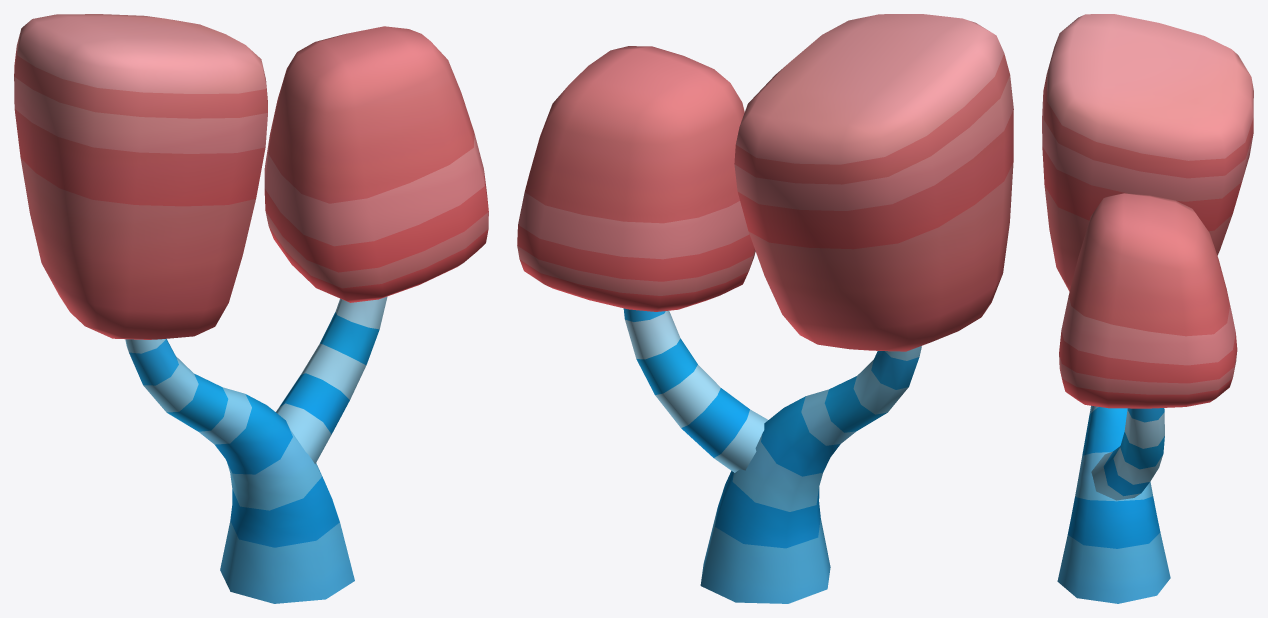
Rendered from Tree_02.glb.
3 views of the same model, side by side, from view 1: azimuth 30°, elevation 25°; view 2: azimuth 150°, elevation 25°; view 3: azimuth 270°, elevation 25° (orthographic). The views are drawn at different scales.
Visible parts, largest first — view 1: Tree_02; view 2: Tree_02; view 3: Tree_02.
Boxes of the visible parts, left/top/right/bottom form: Tree_02: left=14, top=14, right=488, bottom=603; Tree_02: left=517, top=14, right=1013, bottom=603; Tree_02: left=1042, top=14, right=1253, bottom=603.
Size of the model in its own units: 9.18 by 11.8 by 4.68.
1 material, 1 textured.
